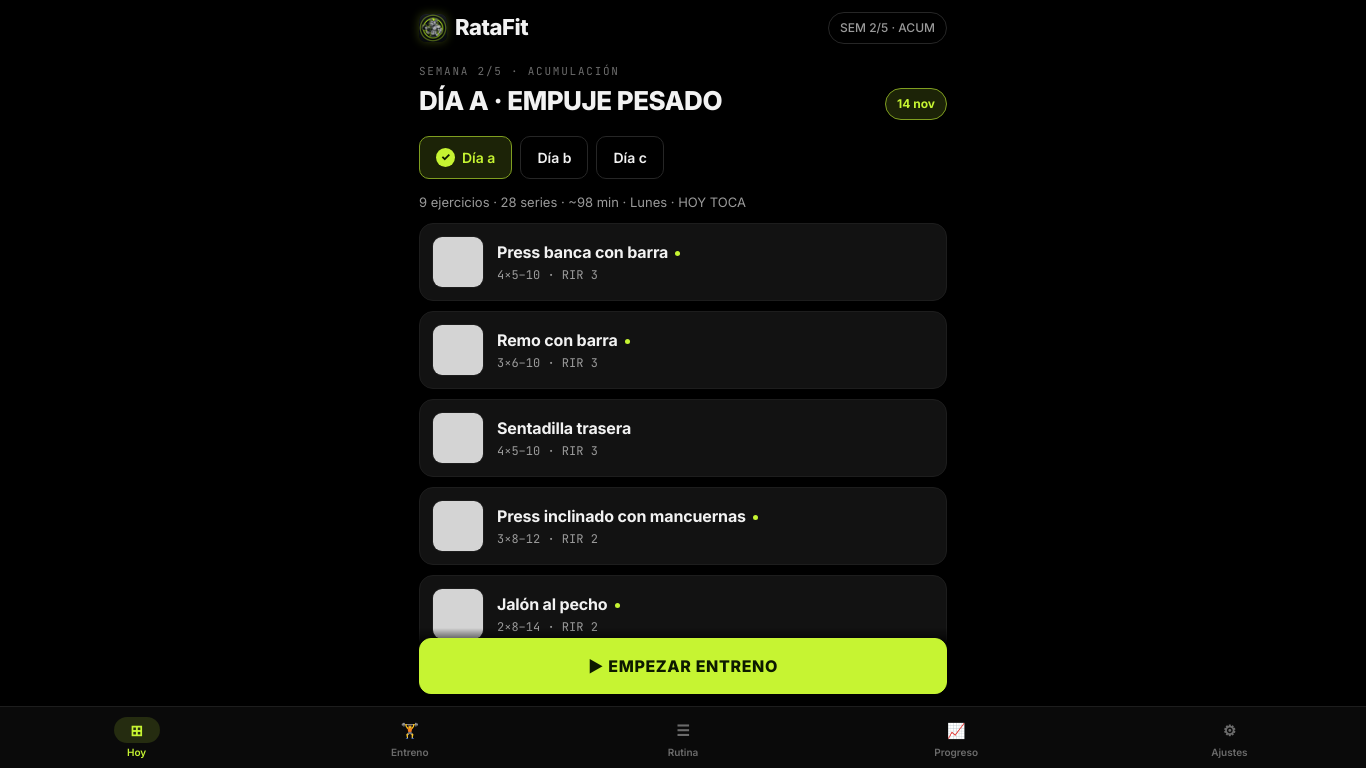
Test: flujo completo de un entrenamiento › muestra la menor asistencia como marca de las dominadas asistidas
Click the button "📈 Progreso" at (956, 738), box 820,711 -> 1093,764
(page scrolled)
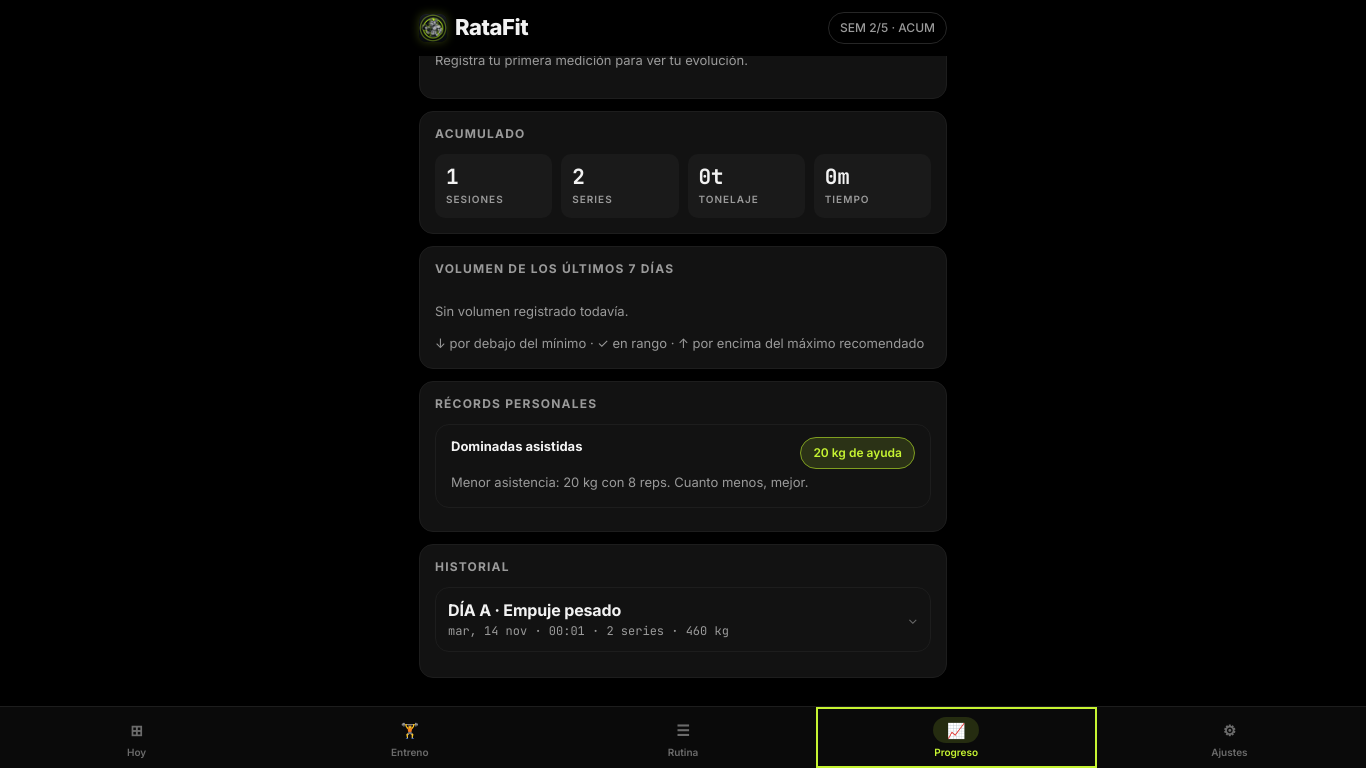
Expected: the text "Menor asistencia: 20 kg con 8 reps. Cuanto menos, mejor." is shown, 451,474 -> 808,490
